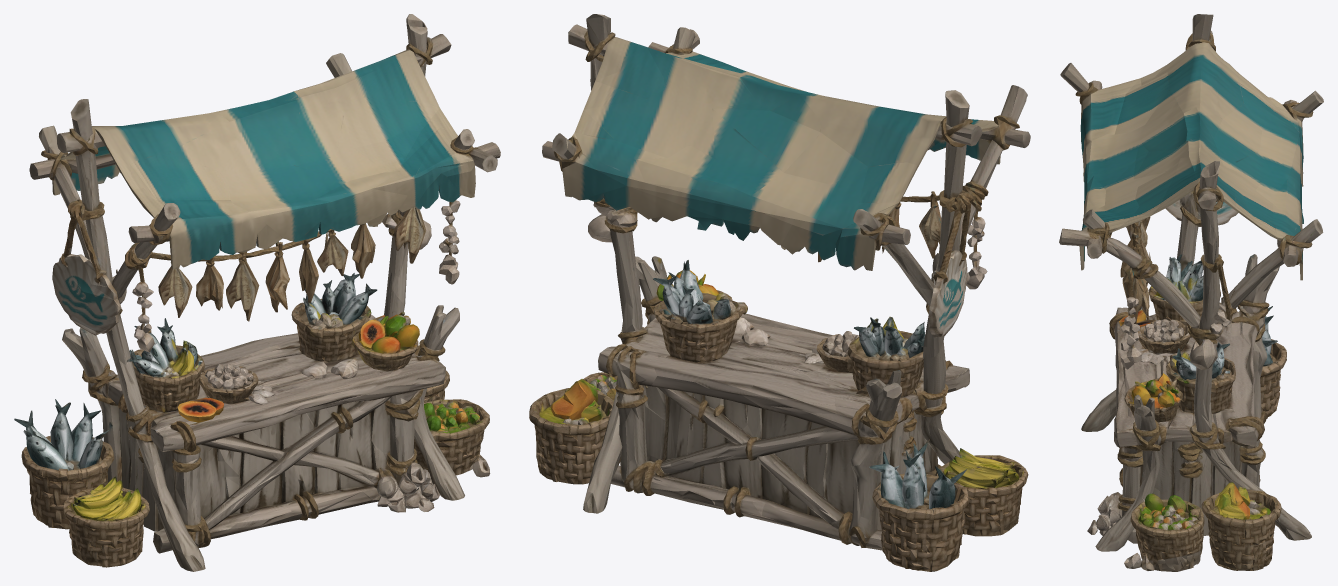
Rendered from market_stall.glb.
The picture shows the model from 3 angles, left to right: view 1: azimuth 30°, elevation 25°; view 2: azimuth 150°, elevation 25°; view 3: azimuth 270°, elevation 25°; orthographic projection. The views are drawn at different scales.
Visible parts, largest first — view 1: Mesh_0; view 2: Mesh_0; view 3: Mesh_0.
Part boxes in pixels (x1,y1,x2,y2): Mesh_0: (14, 14, 500, 571); Mesh_0: (529, 14, 1030, 571); Mesh_0: (1059, 14, 1323, 571).
Bounding box in the file's own units: 1.9 × 1.87 × 1.14.
1 material, 1 textured.
